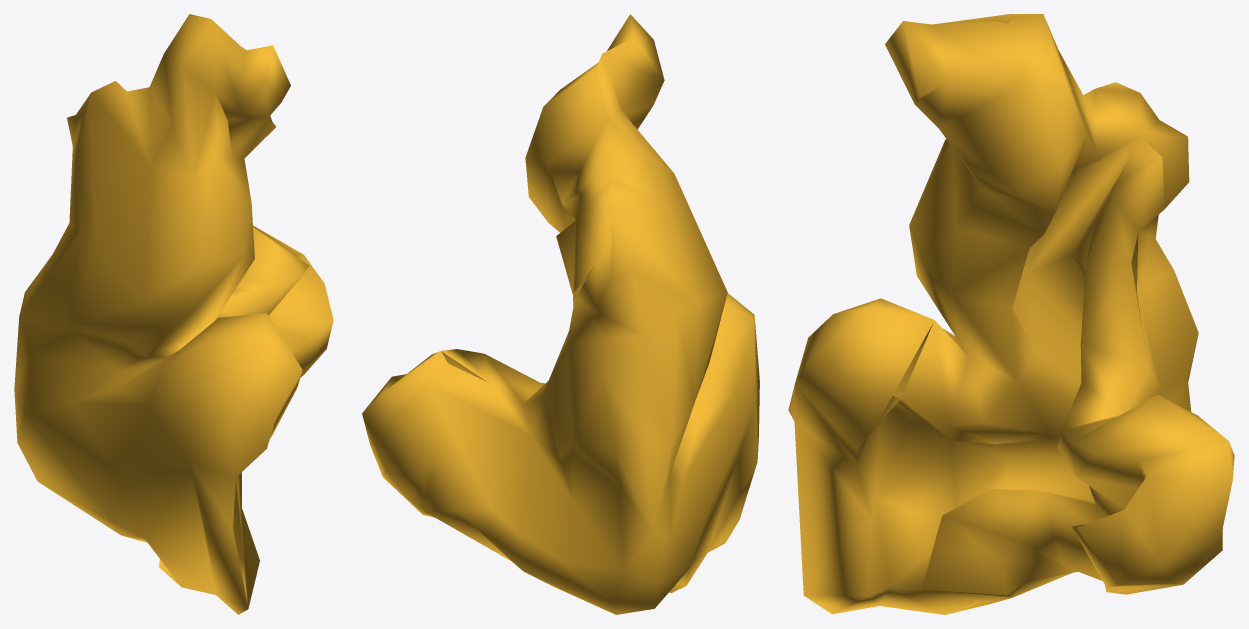
The model's file is nervoso-triangular-part-of-inferior-frontal-gyrus-r.glb.
3 views of the same model, side by side, from view 1: azimuth 30°, elevation 25°; view 2: azimuth 150°, elevation 25°; view 3: azimuth 270°, elevation 25° (orthographic). The views are drawn at different scales.
Parts seen in each view (by area): view 1: Triangular part of inferior frontal gyrus.r; view 2: Triangular part of inferior frontal gyrus.r; view 3: Triangular part of inferior frontal gyrus.r.
Boxes of the visible parts, x1,y1,x2,y2 form: Triangular part of inferior frontal gyrus.r: (14,14,333,614); Triangular part of inferior frontal gyrus.r: (362,14,759,614); Triangular part of inferior frontal gyrus.r: (788,14,1234,614).
Bounding box in the file's own units: 0.0205 × 0.0353 × 0.0224.
